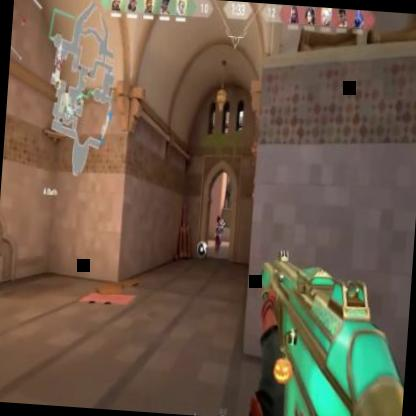enemy: (212, 213, 225, 252)
enemy_head: (218, 218, 221, 224)
